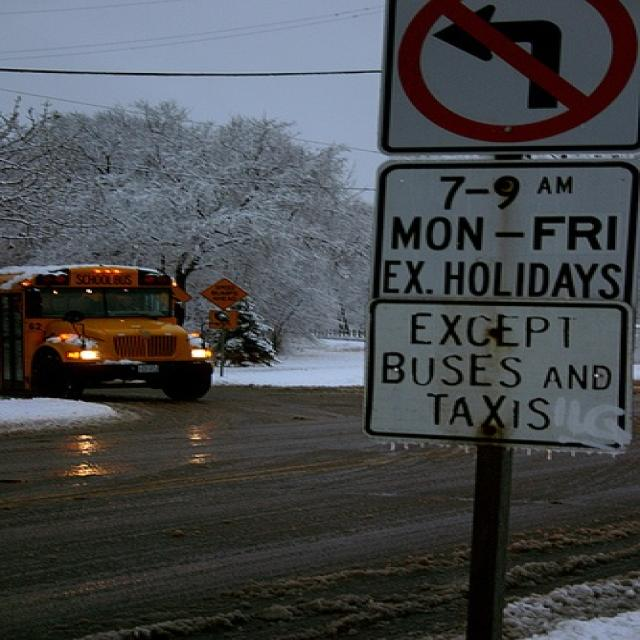bus: (0, 261, 215, 408)
